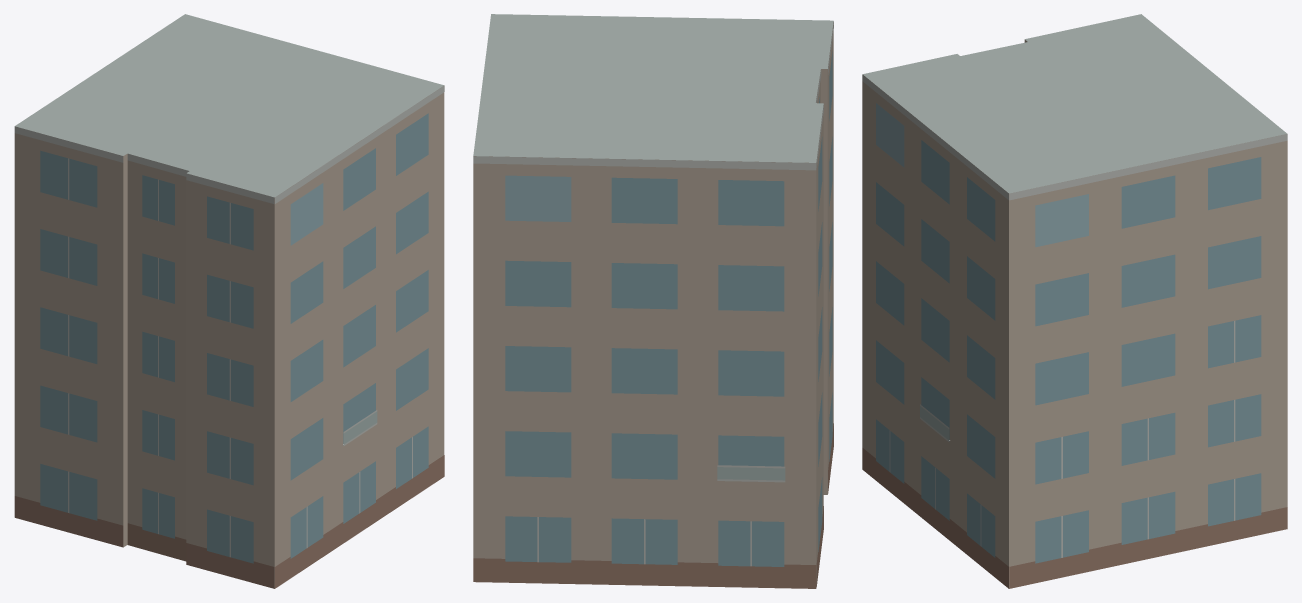
Rendered from survey-upis-32840737.glb.
The picture shows the model from 3 angles, left to right: view 1: azimuth 30°, elevation 25°; view 2: azimuth 150°, elevation 25°; view 3: azimuth 270°, elevation 25°; orthographic projection. The views are drawn at different scales.
Parts seen in each view (by area): view 1: survey-upis-32840737.tmp; view 2: survey-upis-32840737.tmp; view 3: survey-upis-32840737.tmp.
Part boxes in pixels (left/top/right/bottom): survey-upis-32840737.tmp: left=14, top=14, right=444, bottom=588; survey-upis-32840737.tmp: left=473, top=14, right=833, bottom=588; survey-upis-32840737.tmp: left=862, top=14, right=1287, bottom=588.
Bounding box in the file's own units: 13.63 × 13.98 × 13.63.
